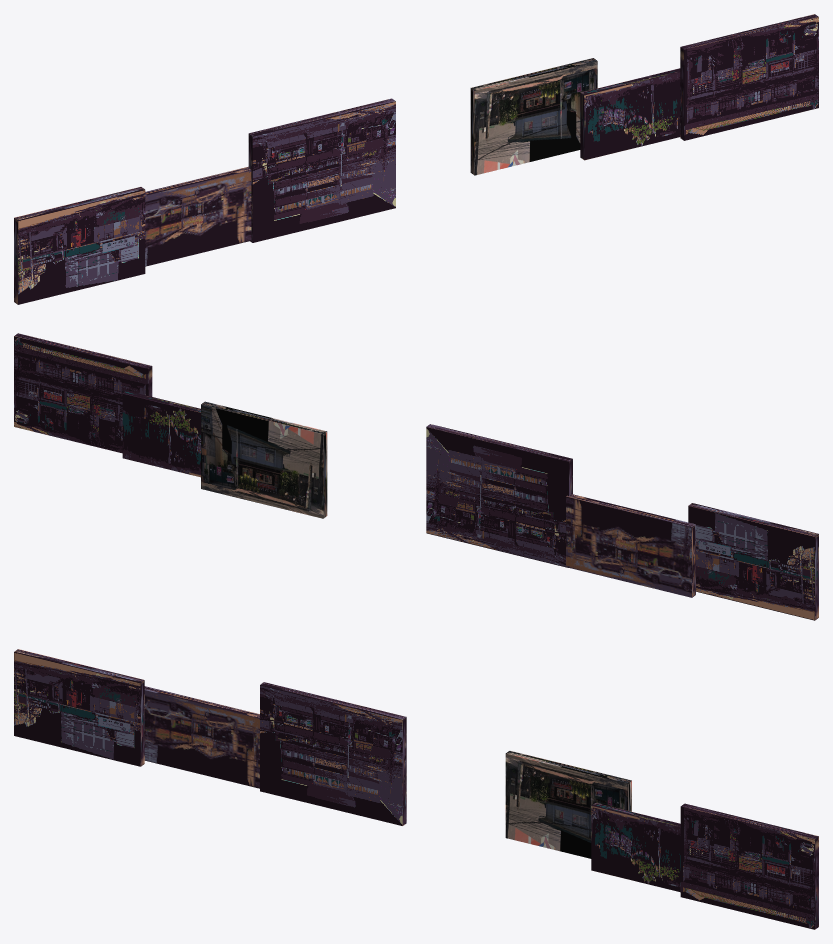
File: background..fbx
3 views of the same model, one above another, from view 1: azimuth 30°, elevation 25°; view 2: azimuth 150°, elevation 25°; view 3: azimuth 330°, elevation 25° (orthographic).
Parts seen in each view (by area): view 1: Cube__23_, Cube__37_, Cube__28_, Cube__43_, Cube__24_, Cube__38_; view 2: Cube__23_, Cube__37_, Cube__43_, Cube__28_, Cube__24_, Cube__38_; view 3: Cube__23_, Cube__37_, Cube__28_, Cube__43_, Cube__24_, Cube__38_.
Part boxes in pixels (x1,y1,x2,y2): Cube__23_: (248,98,395,242); Cube__37_: (680,14,818,140); Cube__28_: (14,187,145,304); Cube__43_: (470,58,597,175); Cube__24_: (145,166,251,266); Cube__38_: (580,68,680,160); Cube__23_: (426,424,572,567); Cube__37_: (14,333,152,453); Cube__43_: (201,401,327,518); Cube__28_: (688,503,818,620); Cube__24_: (566,494,695,597); Cube__38_: (122,390,200,477); Cube__23_: (260,682,406,825); Cube__37_: (680,803,818,929); Cube__28_: (14,649,144,766); Cube__43_: (505,750,631,858); Cube__24_: (144,686,259,788); Cube__38_: (591,803,680,892).
Size of the model in its own units: 11500 by 1462 by 558.
6 materials, 6 textured.
